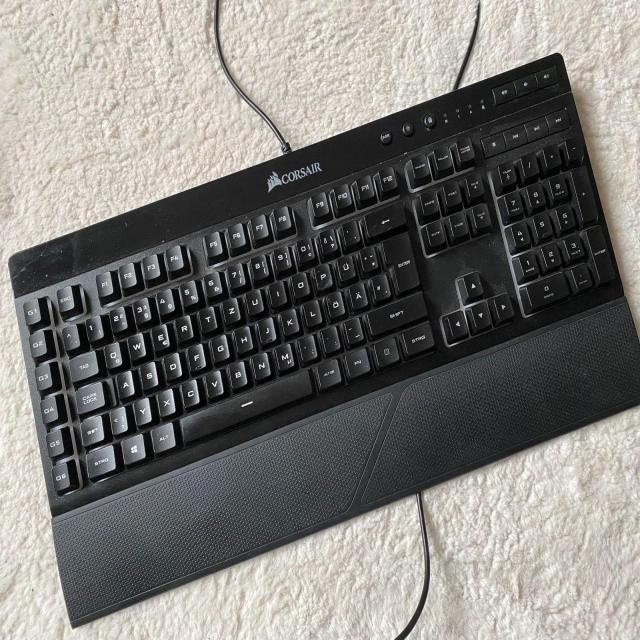0: (294, 234, 318, 264)
1: (85, 313, 104, 340)
2: (108, 304, 127, 331)
3: (131, 295, 152, 324)
4: (154, 285, 175, 314)
5: (178, 277, 198, 306)
6: (202, 268, 223, 298)
7: (225, 259, 246, 288)
8: (249, 251, 271, 281)
9: (271, 243, 293, 271)
a: (115, 368, 134, 397)
accent: (339, 217, 361, 247)
ae: (348, 279, 368, 309)
alt-left: (149, 420, 176, 451)
altgr-right: (313, 357, 342, 389)
b: (227, 359, 248, 388)
c: (180, 377, 200, 406)
caret: (61, 322, 80, 348)
comma: (297, 332, 318, 361)
d: (162, 350, 182, 379)
del: (362, 200, 407, 240)
e: (150, 322, 170, 352)
enter: (381, 229, 421, 293)
f: (186, 341, 206, 370)
g: (210, 332, 229, 361)
h: (232, 324, 253, 352)
hash: (369, 271, 391, 300)
i: (267, 278, 287, 305)
j: (256, 314, 276, 344)
k: (279, 306, 300, 335)
keyboard: (10, 91, 637, 514)
l: (302, 297, 322, 325)
less: (109, 404, 127, 433)
m: (274, 341, 296, 370)
minus: (342, 315, 364, 344)
n: (250, 351, 271, 378)
o: (290, 269, 310, 298)
oe: (324, 289, 345, 318)
p: (312, 261, 333, 290)
plus: (358, 243, 379, 272)
point: (320, 323, 341, 353)
q: (103, 339, 122, 368)
r: (174, 313, 193, 341)
s: (138, 360, 158, 389)
shift-left: (79, 413, 104, 445)
shift-lock: (73, 379, 104, 413)
shift-right: (365, 293, 428, 336)
space: (178, 368, 315, 448)
ss: (317, 225, 340, 256)
strg-left: (84, 442, 116, 478)
strg-right: (400, 320, 435, 355)
t: (198, 304, 217, 332)
tab: (68, 350, 100, 383)
u: (244, 287, 264, 314)
ue: (335, 252, 356, 281)
v: (204, 368, 224, 397)
w: (127, 330, 146, 360)
x: (156, 386, 175, 415)
y: (133, 395, 151, 424)
z: (221, 296, 241, 323)
